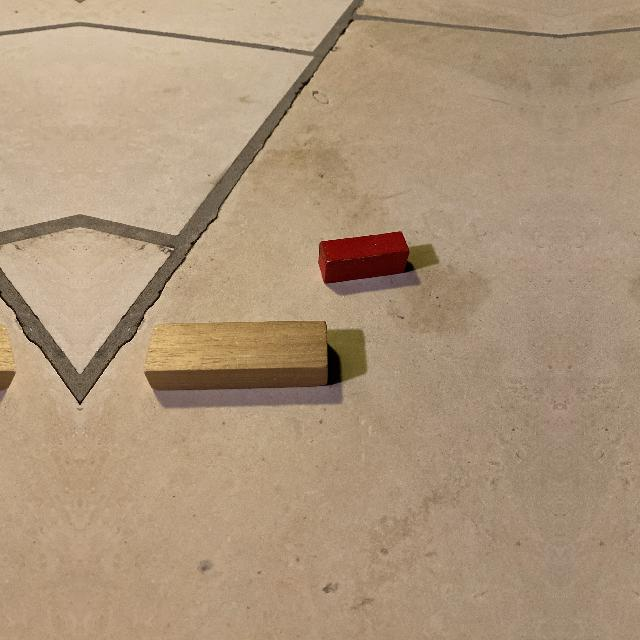jenga: (145, 320, 327, 390)
red block: (318, 231, 410, 283)
